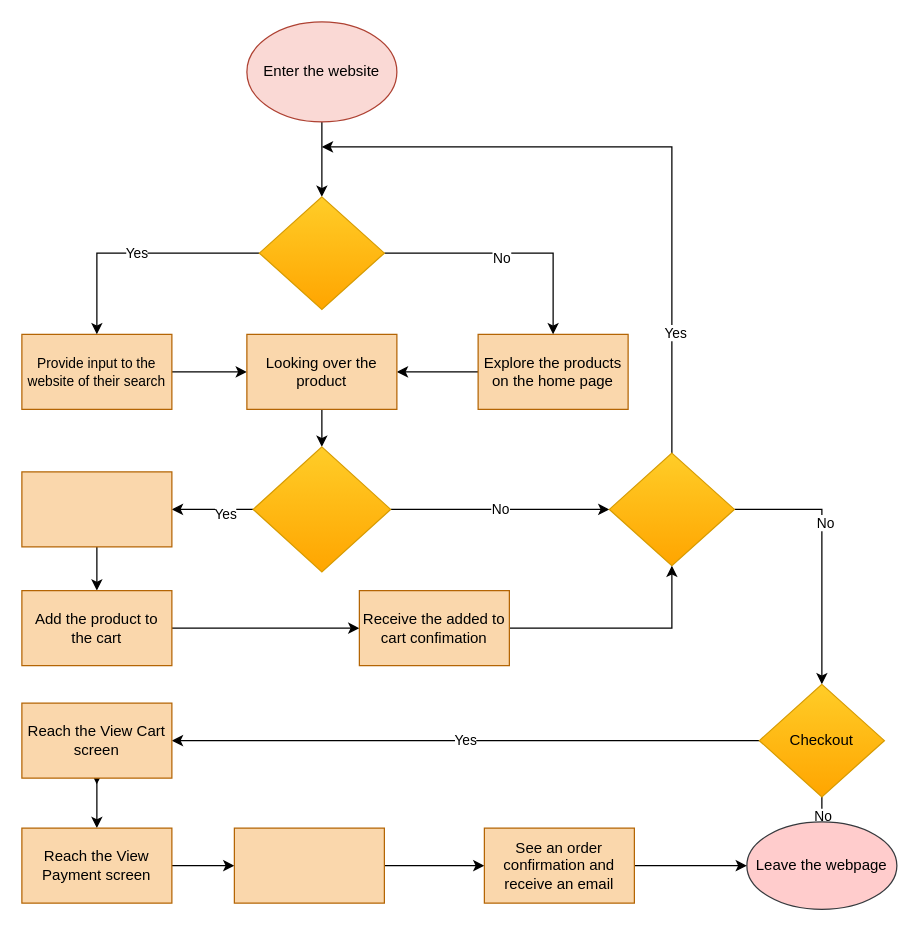
The diagram is 919 pixels wide and 931 high, and some of its shapes have lost their labels. Each missing label, with the box of its shape:
Continue shopping: (608, 452, 734, 566)
Give input of payment information: (233, 827, 384, 903)
Open the product's webpage: (21, 471, 172, 547)
Search for a product: (258, 196, 384, 309)
View a specific product: (252, 446, 391, 572)
